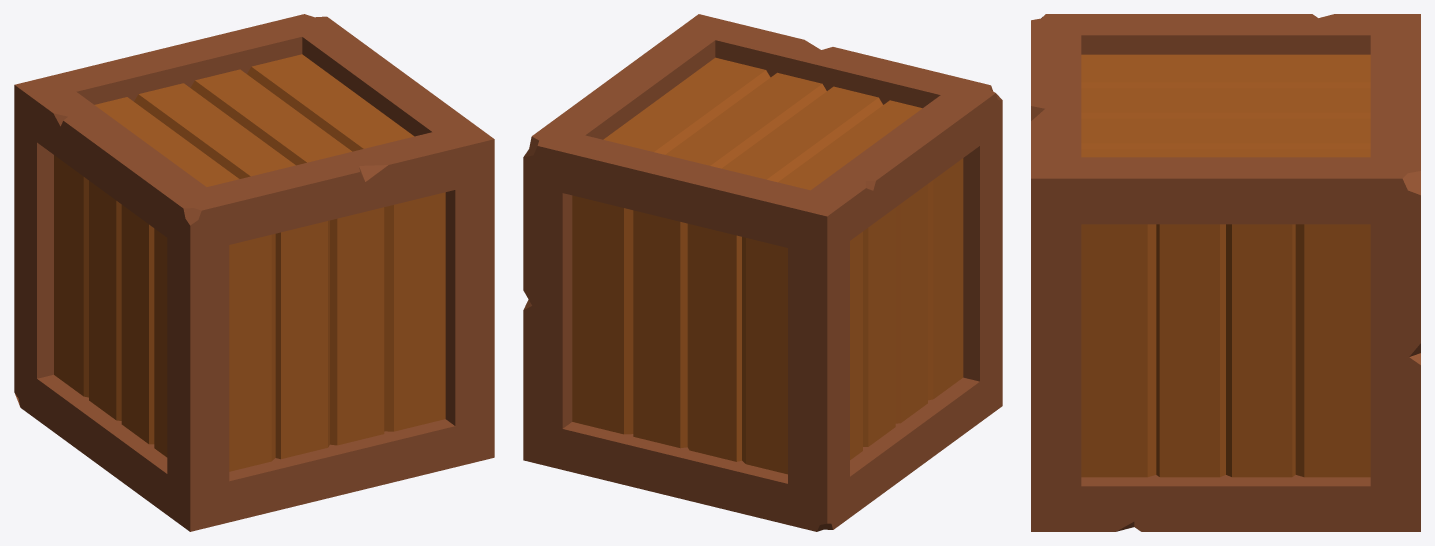
Rendered from crate.fbx.
The picture shows the model from 3 angles, left to right: view 1: azimuth 30°, elevation 25°; view 2: azimuth 150°, elevation 25°; view 3: azimuth 270°, elevation 25°; orthographic projection. The views are drawn at different scales.
Parts seen in each view (by area): view 1: Crate; view 2: Crate; view 3: Crate.
Boxes of the visible parts, x1,y1,x2,y2 form: Crate: (14,14,494,531); Crate: (523,14,1002,531); Crate: (1031,14,1420,531).
Bounding box in the file's own units: 80 × 80 × 80.
